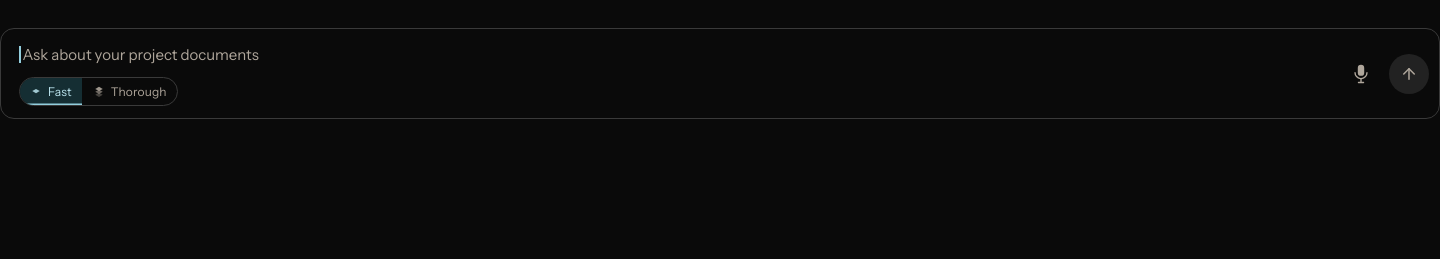
Test: ChatPanel long answer streaming › shows an interrupted error when the agent stream dies without a reply
The width and height of the screenshot is (1440, 259).
Type "Process the selected invoice." into the text box named "Message".
click(673, 55); type("Process the selected invoice.")  # box [22,45,1323,65]
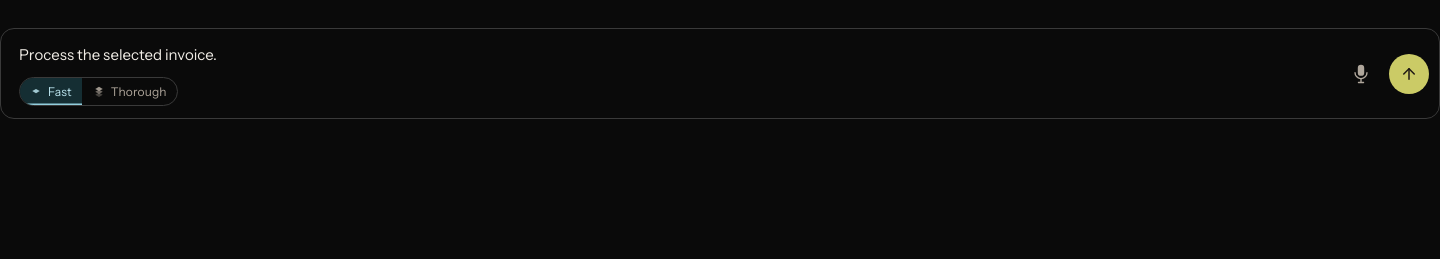
Click the button named "Ask SiteWise".
click(1409, 74)  # box [1389,54,1429,94]
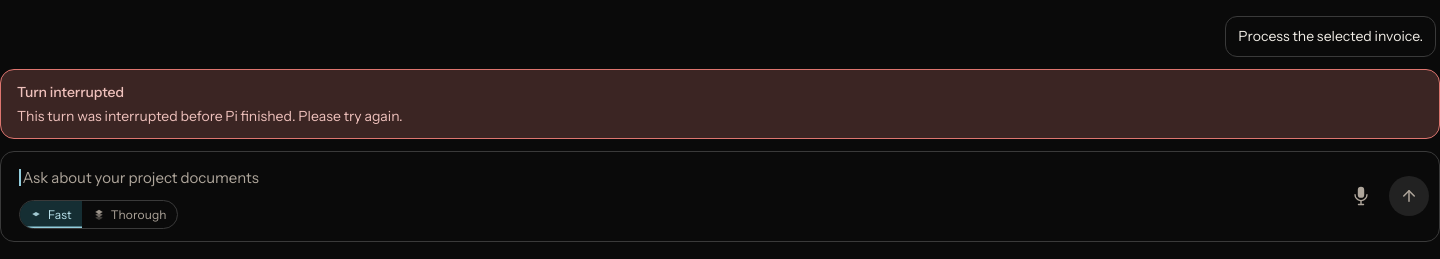
Expected: the message shows "This turn was interrupted before Pi finished", [17,107,403,125]
